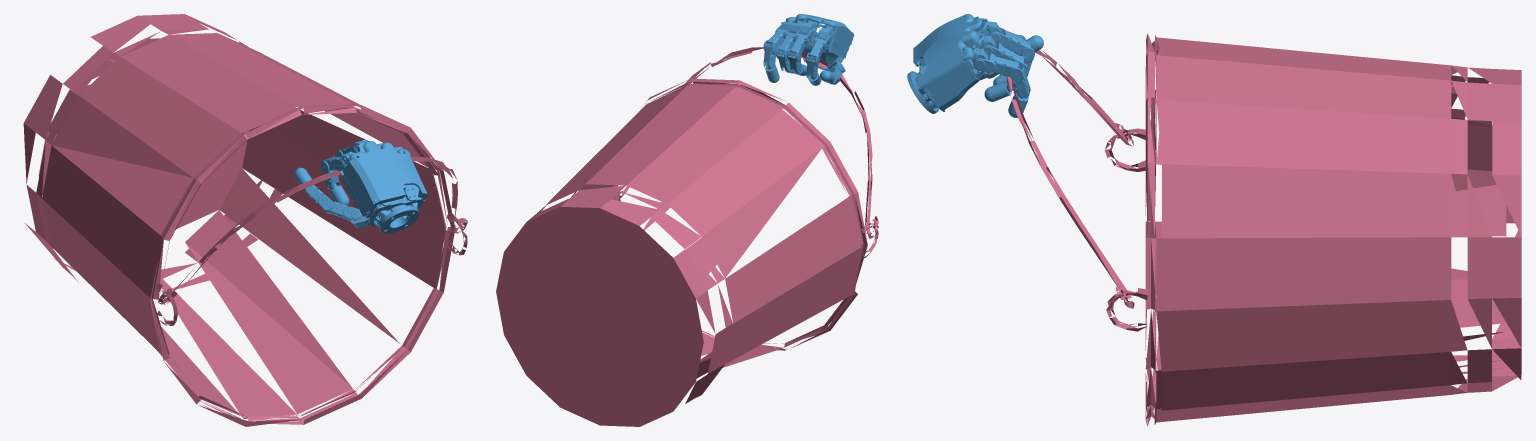
3 views of the same model, side by side, from view 1: azimuth 30°, elevation 25°; view 2: azimuth 150°, elevation 25°; view 3: azimuth 270°, elevation 25° (orthographic). The views are drawn at different scales.
Visible parts, largest first — view 1: 0; view 2: 0; view 3: 0.
Part boxes in pixels (box(x1,y1,x2,y2)): 0: box(23, 14, 467, 426); 0: box(496, 14, 878, 426); 0: box(907, 14, 1521, 426).
Size of the model in its own units: 0.524 by 0.5523 by 0.8037.
